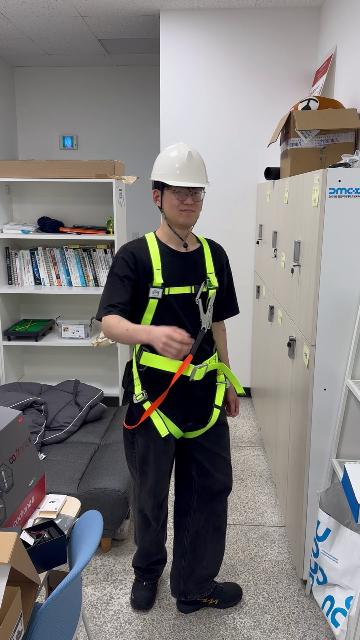helmet_worn: (148, 144, 211, 193)
shoe_worn: (177, 582, 243, 614), (130, 577, 159, 610)
vest_worn: (135, 232, 231, 438)
